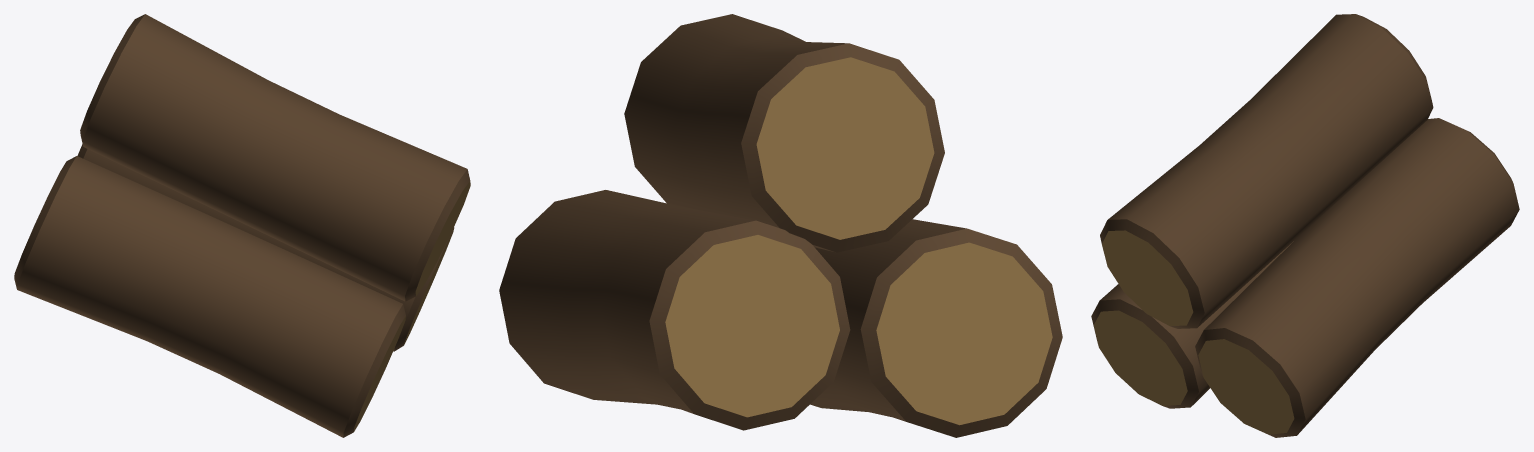
File: Wood.glb
The picture shows the model from 3 angles, left to right: view 1: azimuth 30°, elevation 25°; view 2: azimuth 150°, elevation 25°; view 3: azimuth 270°, elevation 25°; orthographic projection. The views are drawn at different scales.
Visible parts, largest first — view 1: UI_Wood; view 2: UI_Wood; view 3: UI_Wood.
Part boxes in pixels (left/top/right/bottom): UI_Wood: left=14, top=14, right=470, bottom=437; UI_Wood: left=499, top=14, right=1062, bottom=437; UI_Wood: left=1091, top=14, right=1519, bottom=437.
Size of the model in its own units: 0.5581 by 0.4678 by 0.5338.
Materials: 1 (1 with a texture image).
